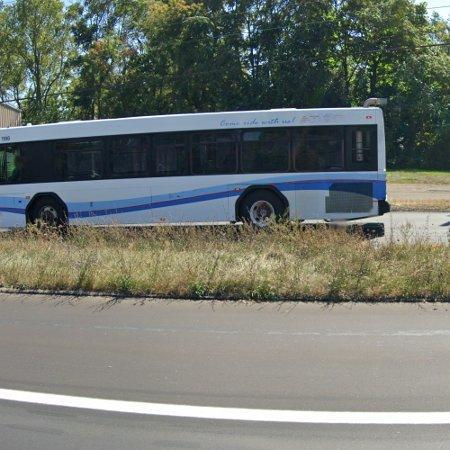buses: (0, 107, 390, 228)
